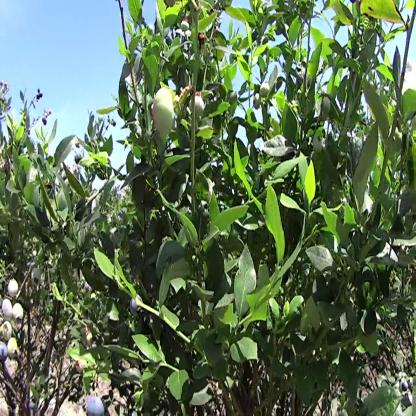intermediate: (4, 300, 15, 325)
mature: (83, 393, 108, 415), (2, 341, 9, 362)
young: (153, 84, 176, 140), (188, 93, 206, 115), (7, 332, 21, 359), (14, 299, 25, 328), (2, 318, 14, 344), (9, 278, 20, 303), (258, 80, 271, 101), (252, 94, 262, 111)
